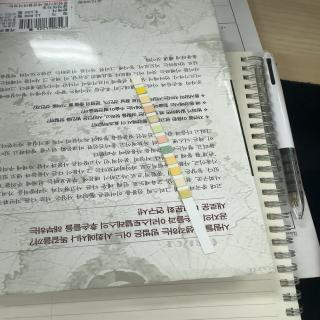mark: (165, 156, 178, 164), (162, 146, 172, 154), (176, 178, 186, 186), (180, 190, 190, 198), (170, 168, 180, 175), (136, 88, 146, 94), (140, 97, 150, 103), (148, 116, 158, 122), (153, 126, 163, 132), (158, 136, 168, 142), (132, 78, 141, 84), (145, 106, 153, 112)
